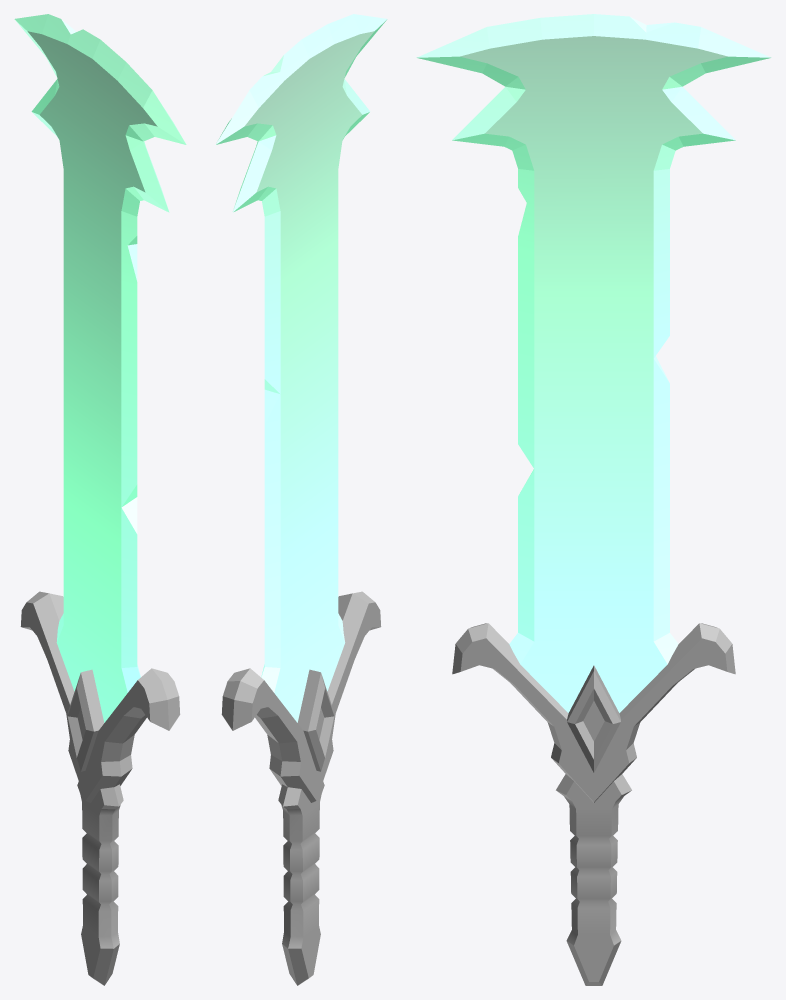
The model's file is SM_Wep_Sword_05.fbx.
3 views of the same model, side by side, from view 1: azimuth 30°, elevation 25°; view 2: azimuth 150°, elevation 25°; view 3: azimuth 270°, elevation 25° (orthographic). The views are drawn at different scales.
Visible parts, largest first — view 1: SM_Wep_Sword_05; view 2: SM_Wep_Sword_05; view 3: SM_Wep_Sword_05.
Part boxes in pixels (bbox=[...]): SM_Wep_Sword_05: bbox=[14, 14, 186, 985]; SM_Wep_Sword_05: bbox=[215, 14, 387, 985]; SM_Wep_Sword_05: bbox=[416, 14, 771, 985].
Size of the model in its own units: 6.96 by 133 by 43.93.
